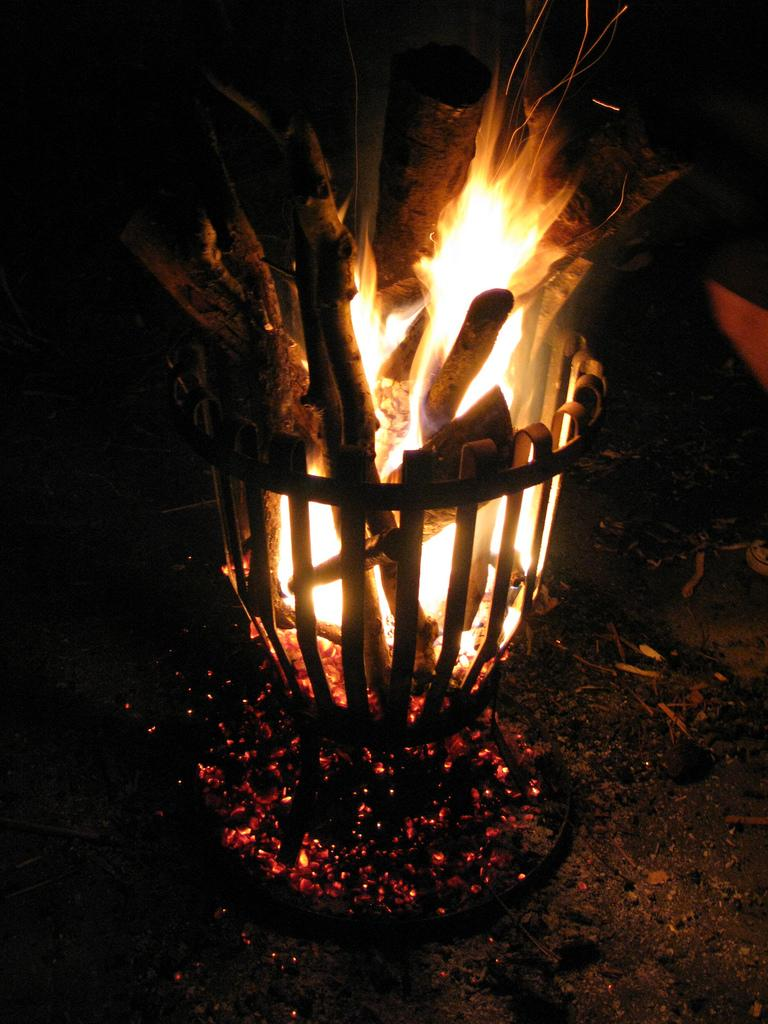fire: (430, 185, 548, 370), (310, 512, 358, 610)
